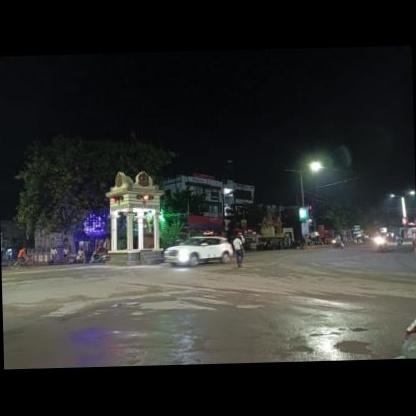Bicycle: (10, 256, 39, 271)
